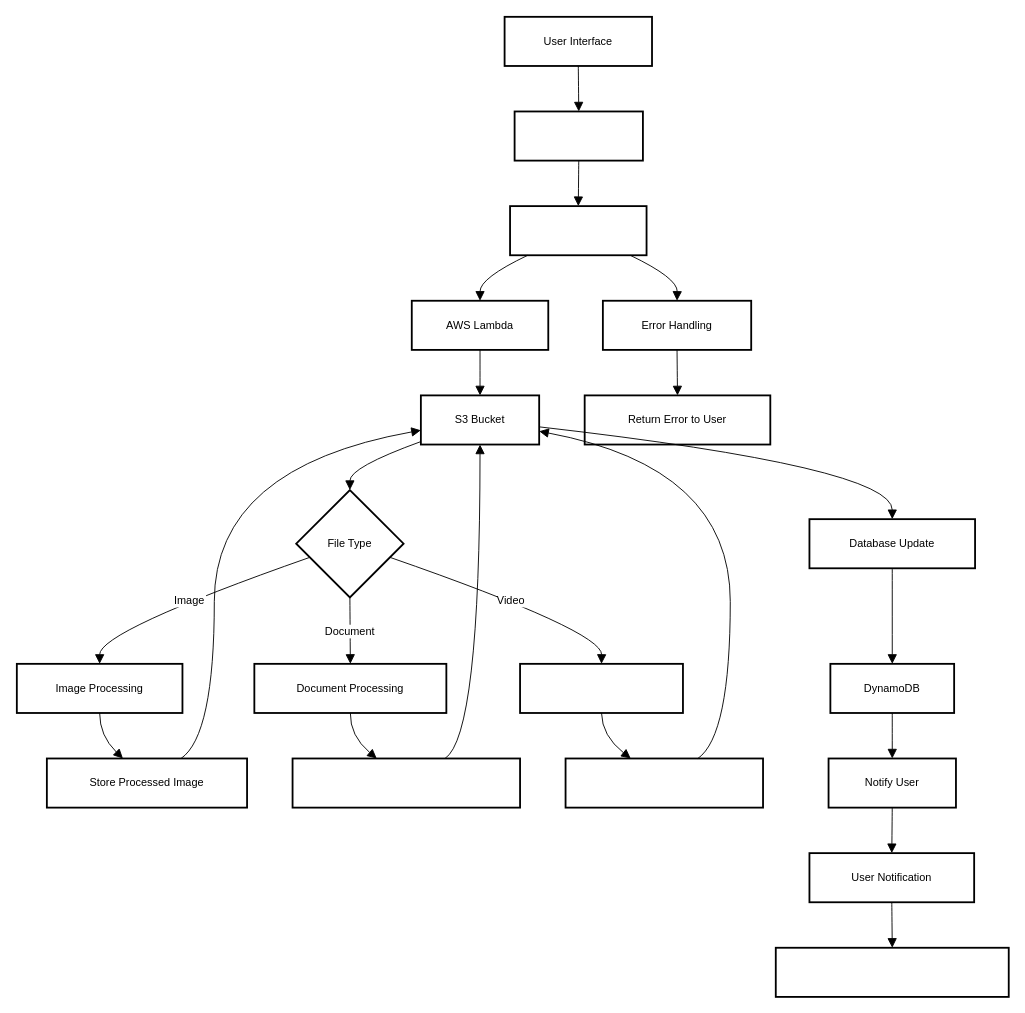
This 1025x1013 diagram has some shape labels left out. The centre of each missing label's shape, as x and y in pixels:
API Gateway: point (578, 230)
File Available for Download: point (891, 971)
File Upload: point (578, 135)
Store Processed Document: point (406, 782)
Store Processed Video: point (663, 782)
Video Processing: point (601, 687)
